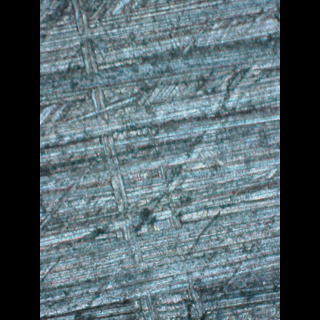d: (64, 2, 209, 320)
